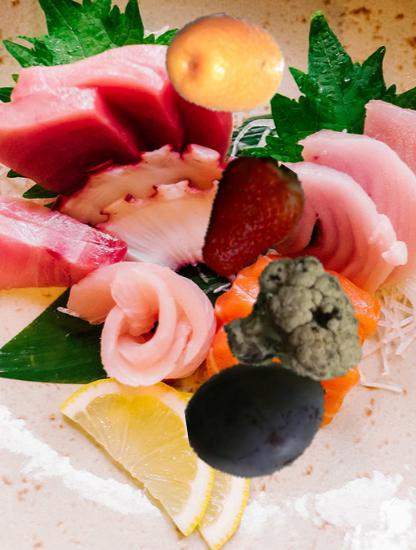Cauliflower: (221, 257, 360, 396)
Kumquats: (164, 3, 286, 125)
Plum: (186, 347, 331, 492)
Strawberry: (181, 153, 312, 284)
